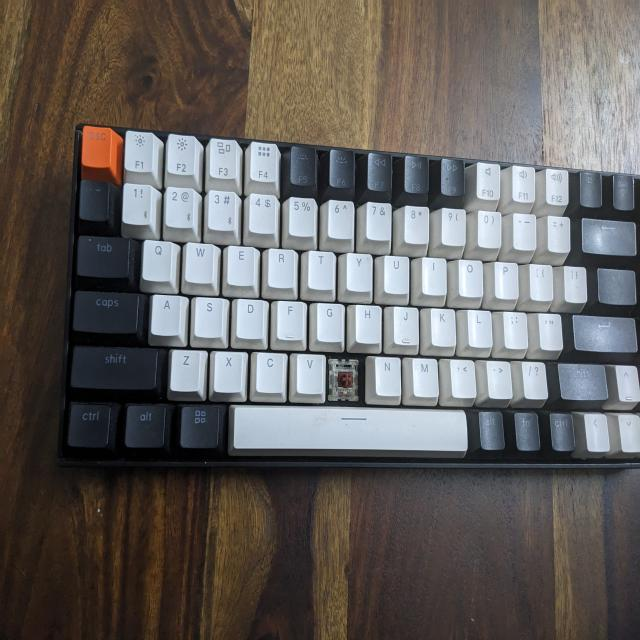C: (328, 355, 362, 405)
